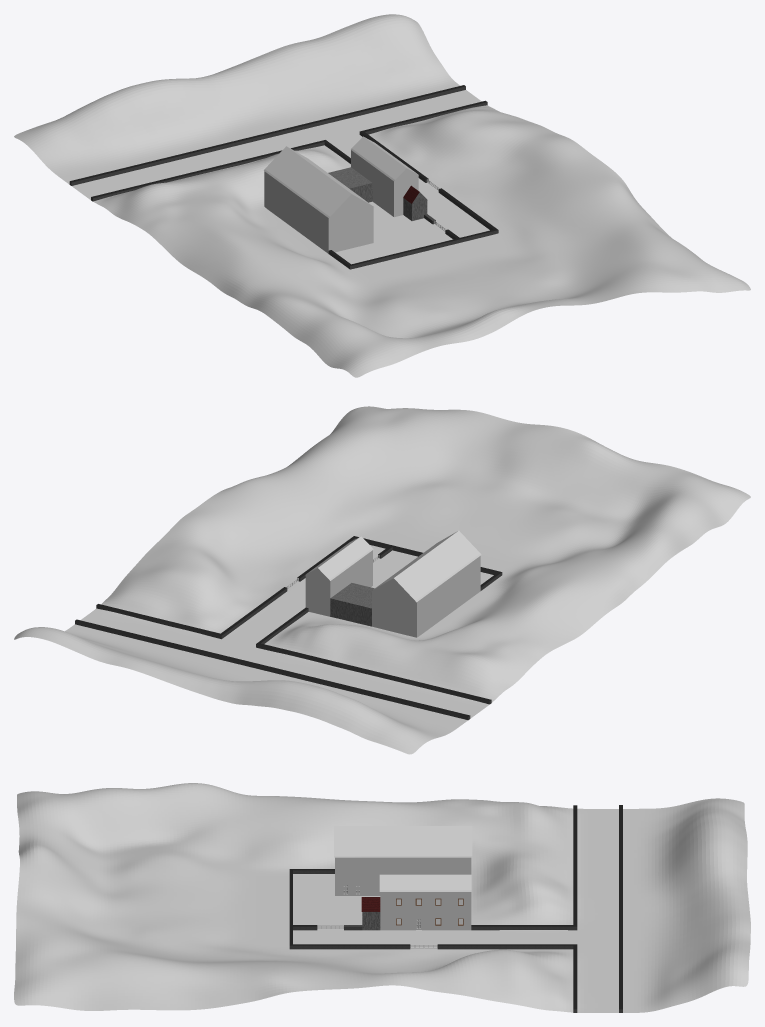
Rendered from World_Map.fbx.
3 views of the same model, one above another, from view 1: azimuth 30°, elevation 25°; view 2: azimuth 150°, elevation 25°; view 3: azimuth 270°, elevation 25° (orthographic). The views are drawn at different scales.
Parts seen in each view (by area): view 1: Terrain, Back_House_Mesh, Brick_Wall, Front_House_Mesh, Middle_Shed_Mesh, Front_Shed_Mesh; view 2: Terrain, Back_House_Mesh, Brick_Wall, Front_House_Mesh, Middle_Shed_Mesh; view 3: Terrain, Back_House_Mesh, Front_House_Mesh, Brick_Wall, Front_Shed_Mesh.
Part boxes in pixels (x1=…): Terrain: x1=14, y1=14, x2=750, y2=377; Back_House_Mesh: x1=264, y1=146, x2=373, y2=253; Brick_Wall: x1=69, y1=85, x2=498, y2=269; Front_House_Mesh: x1=351, y1=136, x2=418, y2=217; Middle_Shed_Mesh: x1=328, y1=167, x2=372, y2=202; Front_Shed_Mesh: x1=403, y1=185, x2=427, y2=220; Terrain: x1=14, y1=406, x2=750, y2=754; Back_House_Mesh: x1=371, y1=530, x2=481, y2=637; Brick_Wall: x1=75, y1=536, x2=502, y2=720; Front_House_Mesh: x1=305, y1=536, x2=373, y2=616; Middle_Shed_Mesh: x1=330, y1=583, x2=374, y2=626; Terrain: x1=14, y1=783, x2=750, y2=1012; Back_House_Mesh: x1=334, y1=826, x2=472, y2=895; Front_House_Mesh: x1=379, y1=874, x2=471, y2=930; Brick_Wall: x1=289, y1=805, x2=622, y2=1012; Front_Shed_Mesh: x1=361, y1=897, x2=380, y2=930.
Size of the model in its own units: 16968 by 2246 by 25328.
